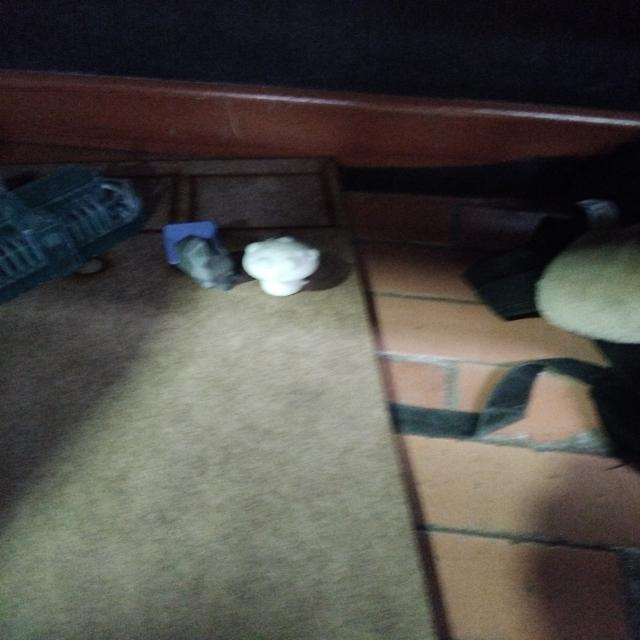Hongo: (232, 231, 326, 304)
